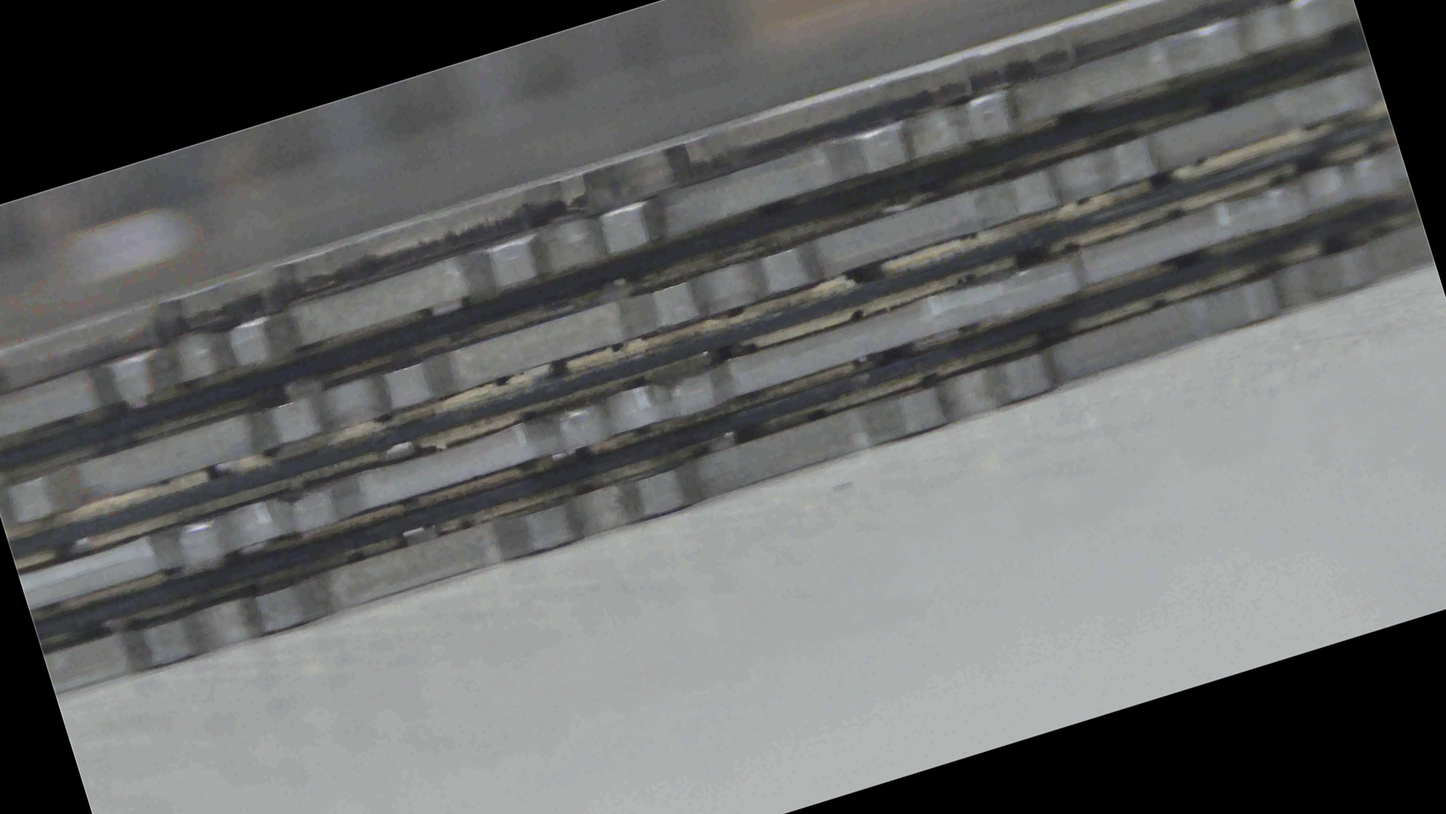Black metal plate: (0, 437, 1445, 491), (5, 135, 1444, 188)
shiney metal plate: (70, 12, 1347, 750), (0, 181, 1445, 234), (0, 269, 1441, 318)
spacer: (0, 376, 1445, 409), (0, 232, 1445, 260), (2, 325, 1445, 351)
